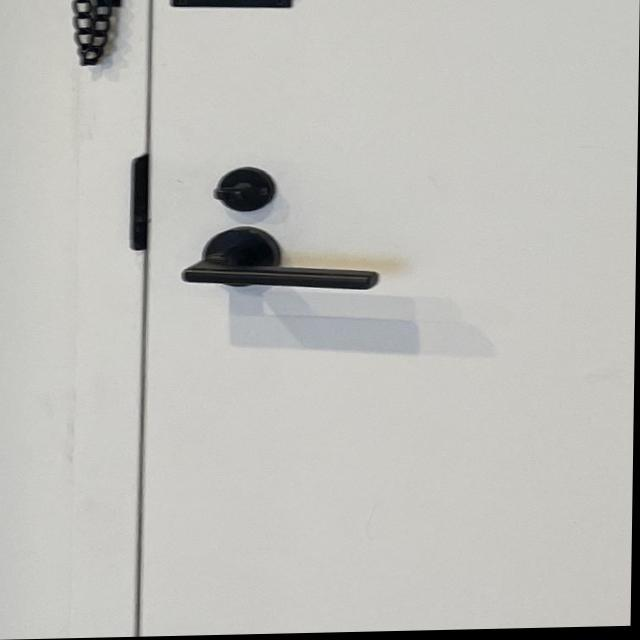door_handle: (169, 218, 401, 309)
